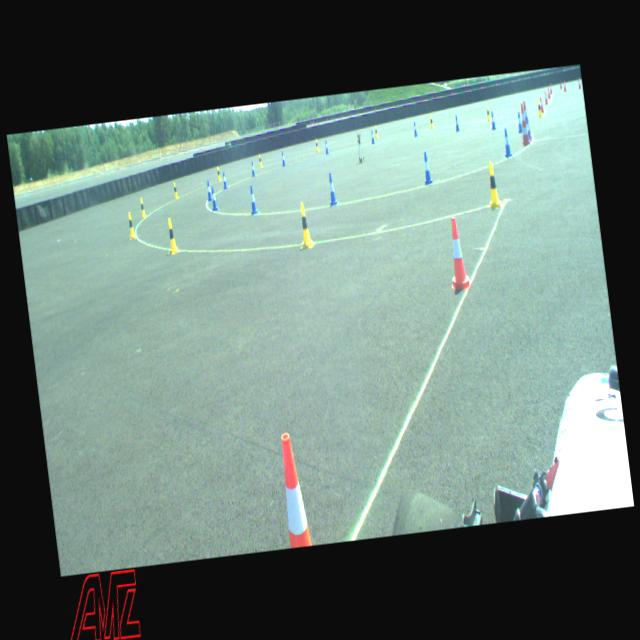blue_cone: (326, 172, 338, 205), (420, 150, 432, 183), (248, 184, 258, 216), (501, 128, 512, 156), (210, 186, 218, 210), (524, 116, 532, 140), (205, 180, 212, 200), (489, 111, 496, 129), (516, 111, 522, 132), (222, 170, 228, 188), (369, 128, 375, 144), (250, 160, 256, 176), (280, 151, 286, 166), (412, 121, 418, 136), (454, 115, 459, 131), (324, 140, 328, 154)
large_orange_cone: (517, 103, 530, 145), (522, 100, 532, 140)
orange_cone: (276, 432, 312, 548), (443, 216, 472, 291), (538, 96, 544, 112), (542, 90, 548, 105), (577, 76, 581, 88), (546, 86, 550, 98), (548, 82, 552, 94), (562, 80, 566, 91)
yellow_cone: (484, 162, 502, 208), (296, 202, 314, 248), (166, 218, 178, 254), (126, 212, 136, 238), (140, 198, 146, 218), (172, 181, 178, 198), (536, 100, 542, 116), (485, 105, 491, 120), (428, 115, 434, 128), (216, 166, 221, 180), (314, 138, 319, 151), (374, 125, 378, 138), (258, 154, 262, 166)
